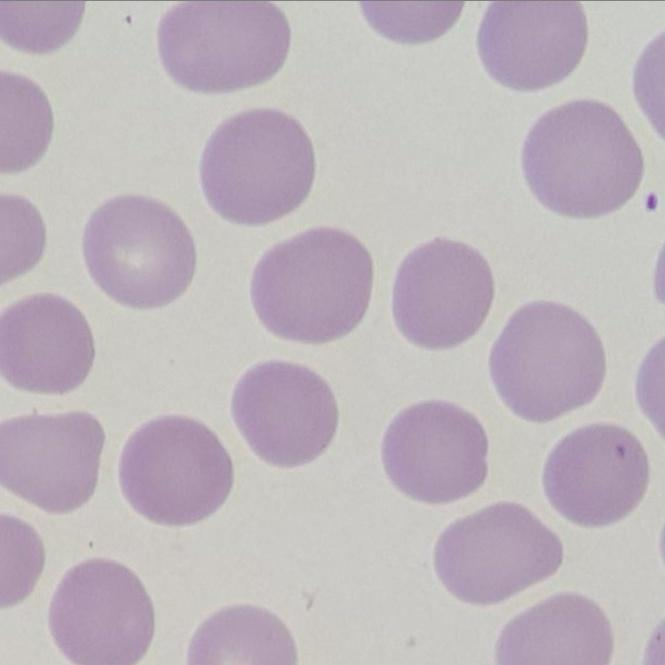Uninfected: (255, 227, 374, 346), (82, 194, 196, 313), (523, 101, 643, 214), (113, 416, 235, 527), (433, 501, 564, 604), (492, 304, 603, 424), (200, 111, 315, 224), (228, 357, 338, 471), (43, 559, 158, 665), (162, 0, 293, 90), (385, 397, 488, 506), (542, 426, 652, 528), (392, 239, 492, 351), (0, 409, 102, 511), (0, 294, 97, 392), (480, 0, 584, 90), (495, 589, 613, 665)
